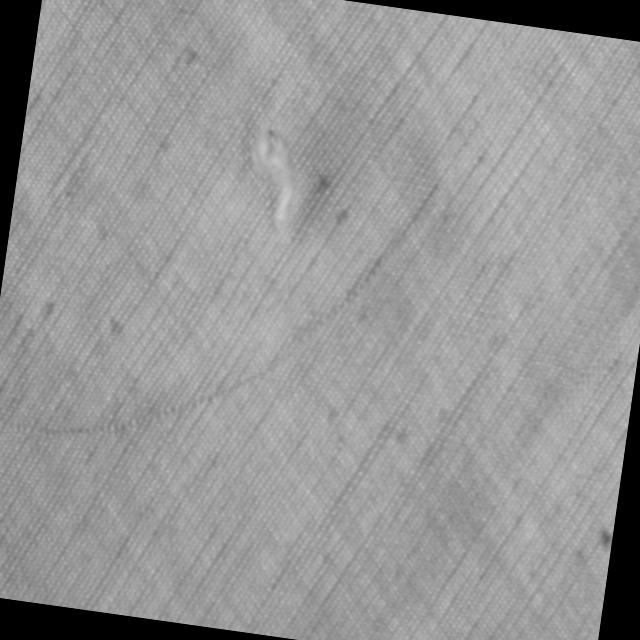objects: (0, 118, 447, 487), (238, 121, 308, 234)
